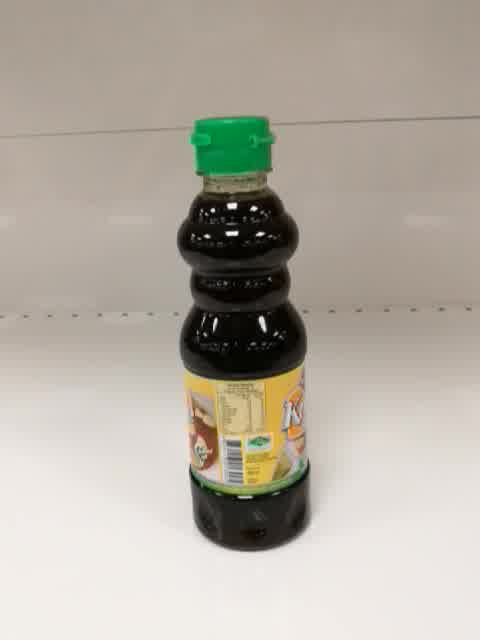cookingoil: (174, 115, 311, 553)
